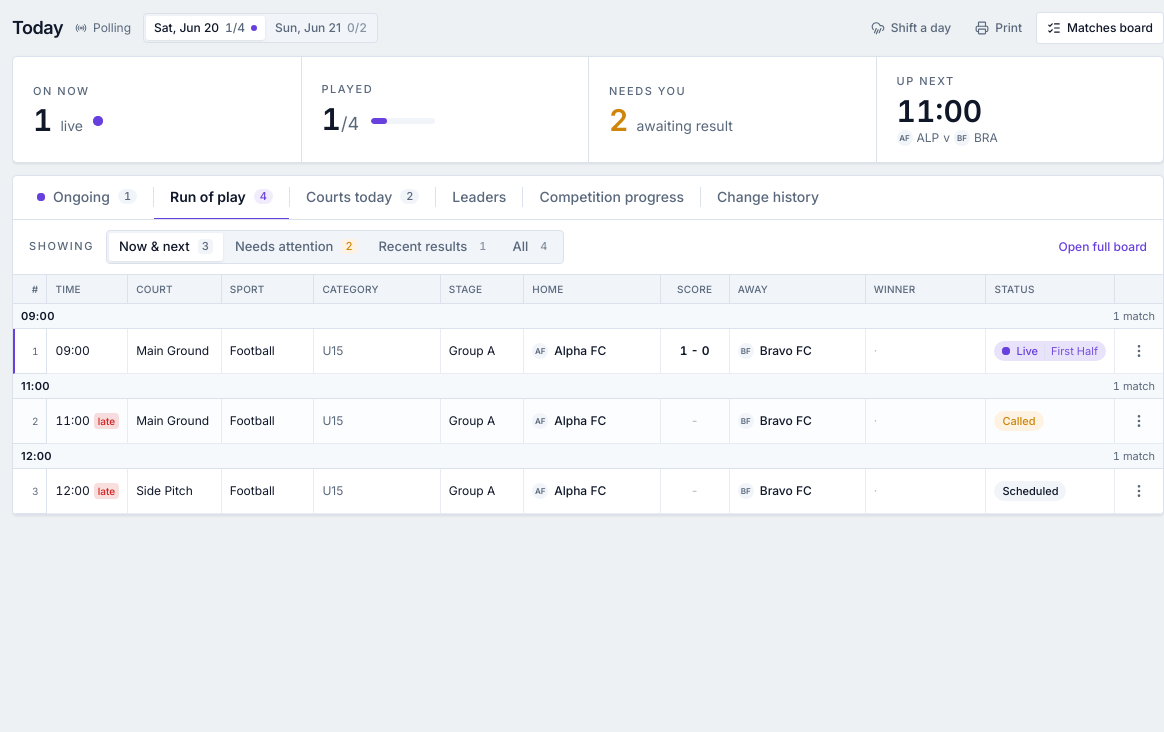
Test: ControlRoomPage › the run-of-play filters swap the feed: results, then needs-attention
Note: Results: only the finished match, with its score.
Click the button with test id "feed-filter-results". click: (434, 246)
box: [368,232,500,260]
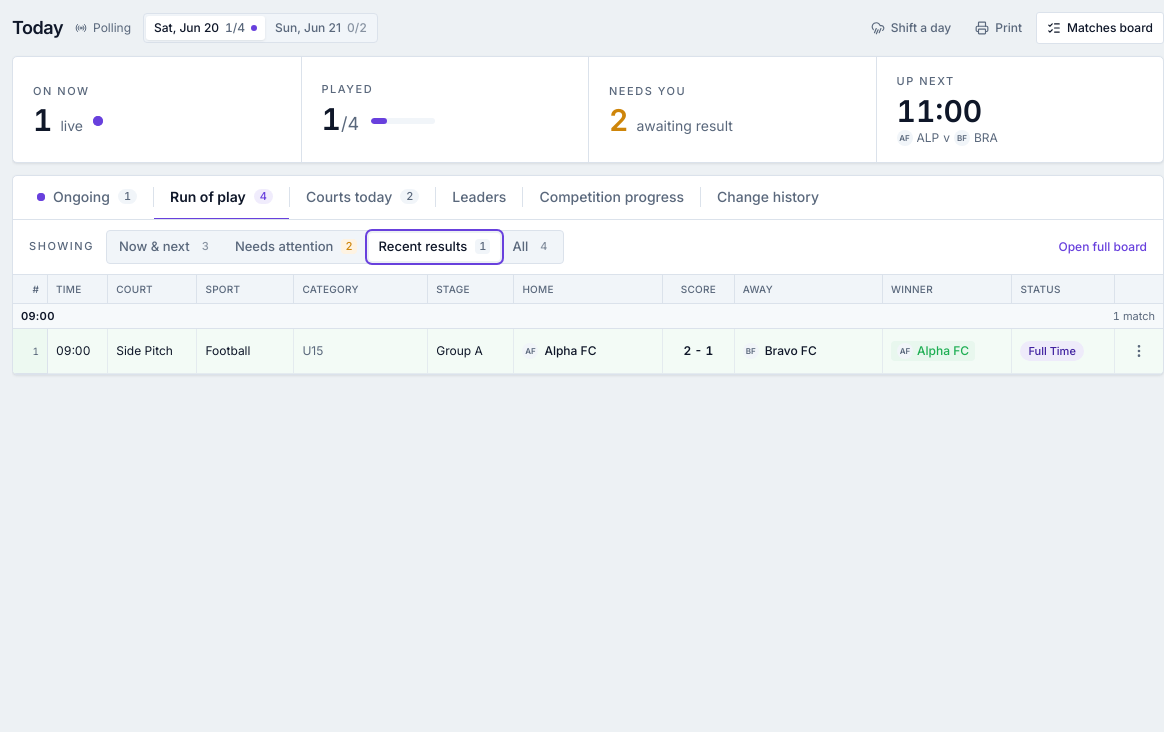
Expected: the row with test id "tile-m3" is shown, [13,328,1163,374]
Expected: the text "2 - 1" is shown, [684,342,713,358]
Expected: the row with test id "tile-m1" is gone
Note: The ops band's "Needs you" cell jumps back to the exceptions filter.
Click the button with test id "ops-needs-you". click: (648, 90)
box: [588,57,876,162]
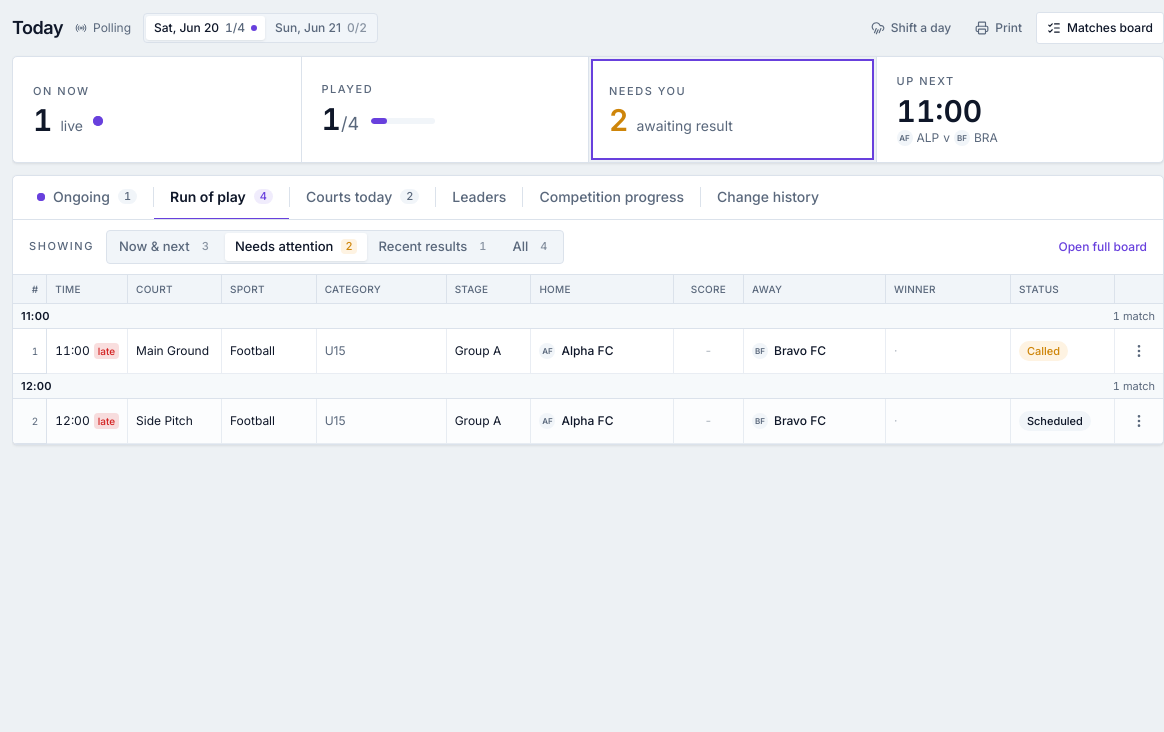
Expected: the row with test id "tile-m2" is shown, [13,328,1163,374]
Expected: the row with test id "tile-m3" is gone
